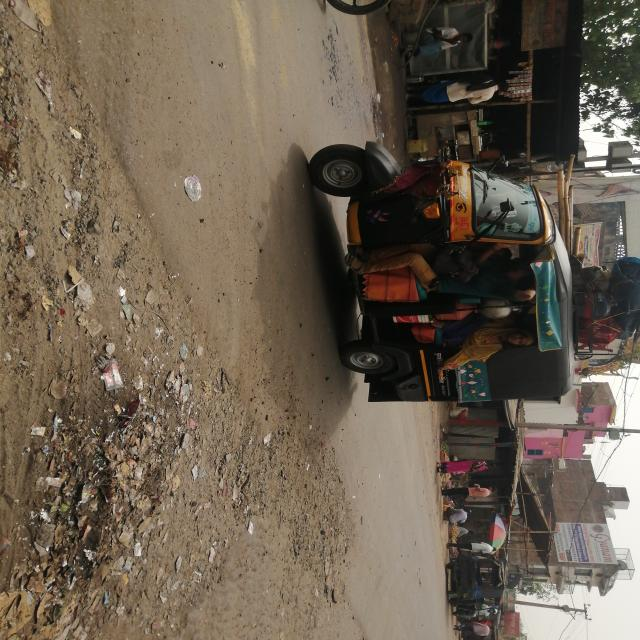Bike: (309, 0, 407, 23), (446, 602, 499, 622)
tempo: (298, 121, 581, 422), (441, 550, 507, 613)
